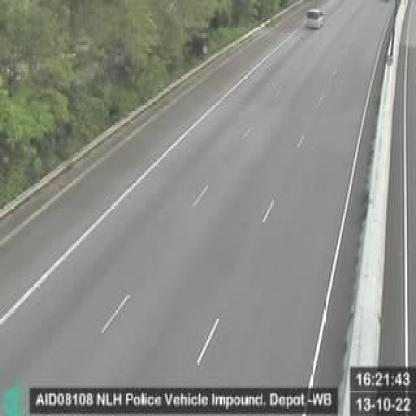Car: (304, 8, 324, 30)
